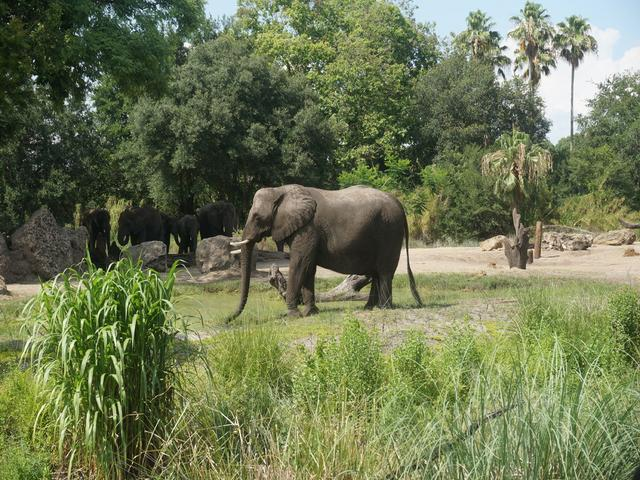elephant: (217, 169, 433, 333)
